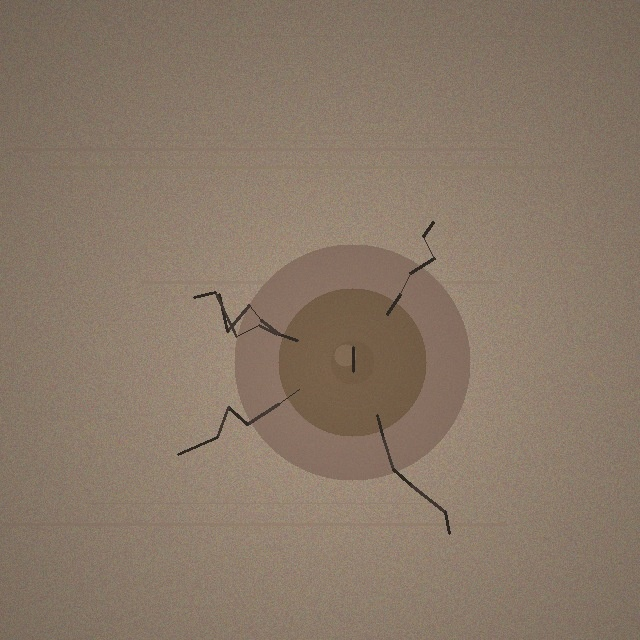crack: (234, 244, 470, 480)
